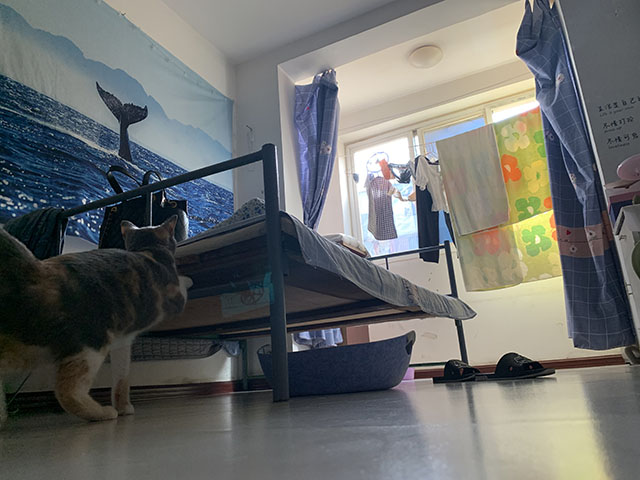bed: (1, 142, 479, 405)
curtain: (512, 1, 637, 352)
slippers: (482, 351, 556, 383), (413, 354, 479, 386)
